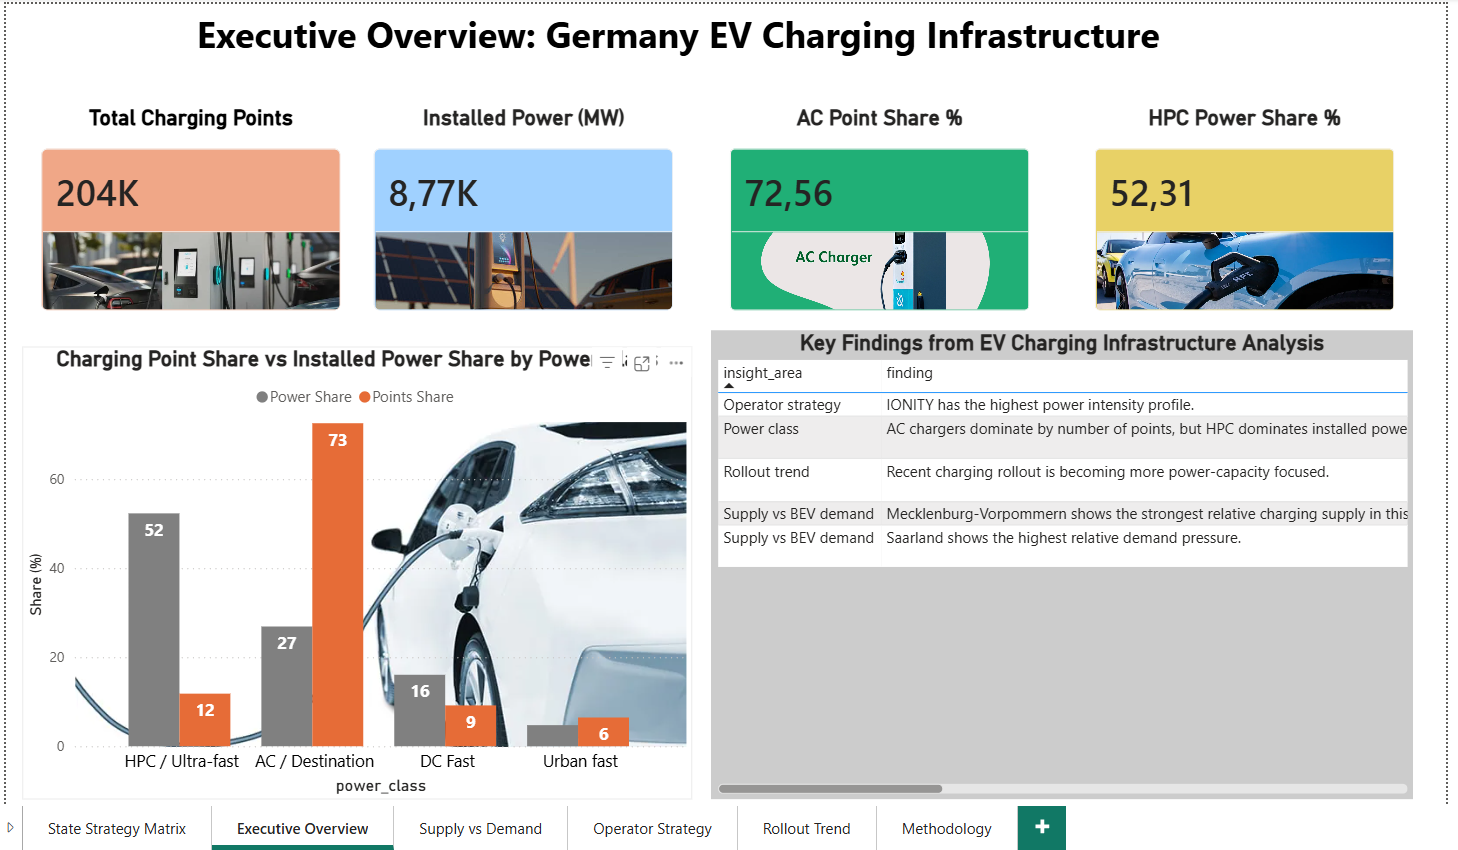

The page's visual inventory and layout, read from the dashboard file:
{"tool":"powerbi","page":{"name":"Executive Overview","canvas":[1280,720],"ordinal":1},"visuals":[{"type":"cardVisual","title":"Total Charging Points","fields":{"Data":["Sum(Power_Class_Overall.charging_points)"]},"box":[14.3,90,300,200],"z":0},{"type":"cardVisual","title":"Installed Power (MW)","fields":{"Data":["Sum(Power_Class_Overall.installed_power_mw)","Sum(Power_Class_Overall.installed_power_mw)"]},"box":[310,90,300,200],"z":1000},{"type":"cardVisual","title":"AC Point Share %","fields":{"Data":["Sum(Power_Class_Overall.charging_point_share_pct)","Sum(Power_Class_Overall.charging_point_share_pct)"]},"box":[627.1,90,300,200],"z":2000},{"type":"cardVisual","title":"HPC Power Share %","fields":{"Data":["Sum(Power_Class_Overall.installed_power_share_pct)"]},"box":[951.4,90,300,200],"z":3000},{"type":"clusteredColumnChart","title":"Charging Point Share vs Installed Power Share by Power Class","fields":{"Category":["Power_Class_Overall.power_class"],"Y":["Sum(Power_Class_Overall.installed_power_share_pct)","Sum(Power_Class_Overall.charging_point_share_pct)"]},"box":[14.3,304.3,595.7,402.9],"z":4000},{"type":"tableEx","title":"Key Findings from EV Charging Infrastructure Analysis","fields":{"Values":["Final_Insights.insight_area","Final_Insights.finding","Final_Insights.evidence","Final_Insights.industry_meaning"]},"box":[627.1,290,624.3,417.1],"z":5000},{"type":"textbox","box":[164.3,0,924.3,61.4],"z":6000}]}

Visuals, with their boxes on the page's 1280x720 design canvas (x1, y1, x2, y2). These are canvas units, not pixel positions in the 1458x850 screenshot, which may show the page scaled, cropped or inside an application window:
"Total Charging Points" cardVisual: (14,90,314,290)
"Installed Power (MW)" cardVisual: (310,90,610,290)
"AC Point Share %" cardVisual: (627,90,927,290)
"HPC Power Share %" cardVisual: (951,90,1251,290)
"Charging Point Share vs Installed Power Share by Power Class" clusteredColumnChart: (14,304,610,707)
"Key Findings from EV Charging Infrastructure Analysis" tableEx: (627,290,1251,707)
textbox: (164,0,1089,61)
